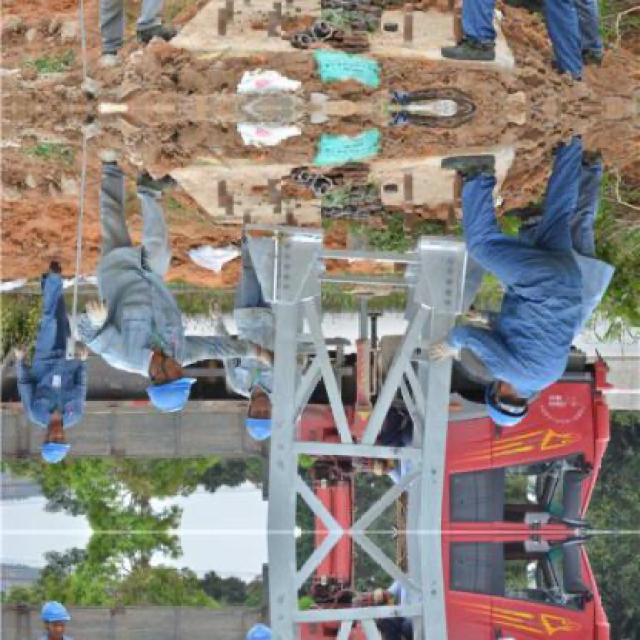con casco: (131, 343, 210, 418), (24, 423, 78, 487), (474, 387, 538, 429), (239, 398, 279, 453)
